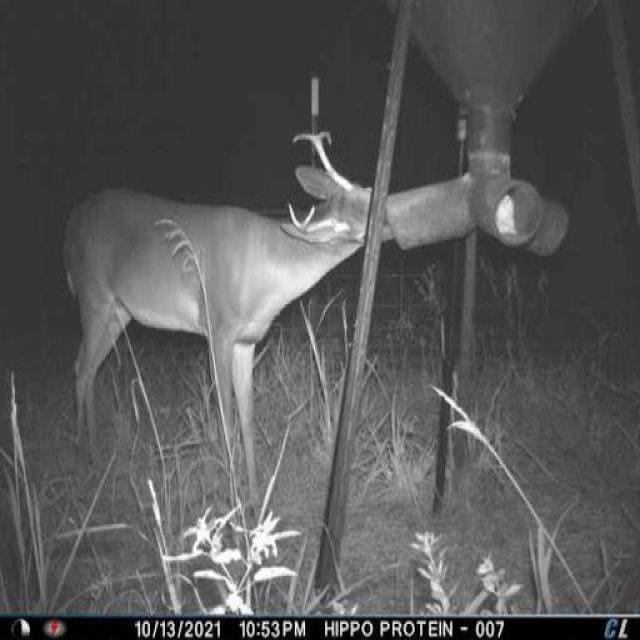deer: (59, 123, 394, 530)
